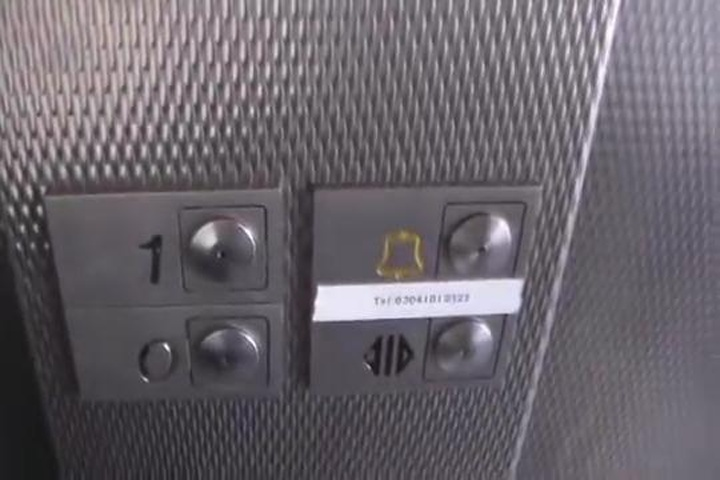0: (55, 296, 288, 402)
1: (38, 185, 289, 312)
alarm: (307, 179, 545, 287)
open: (305, 305, 522, 391)
